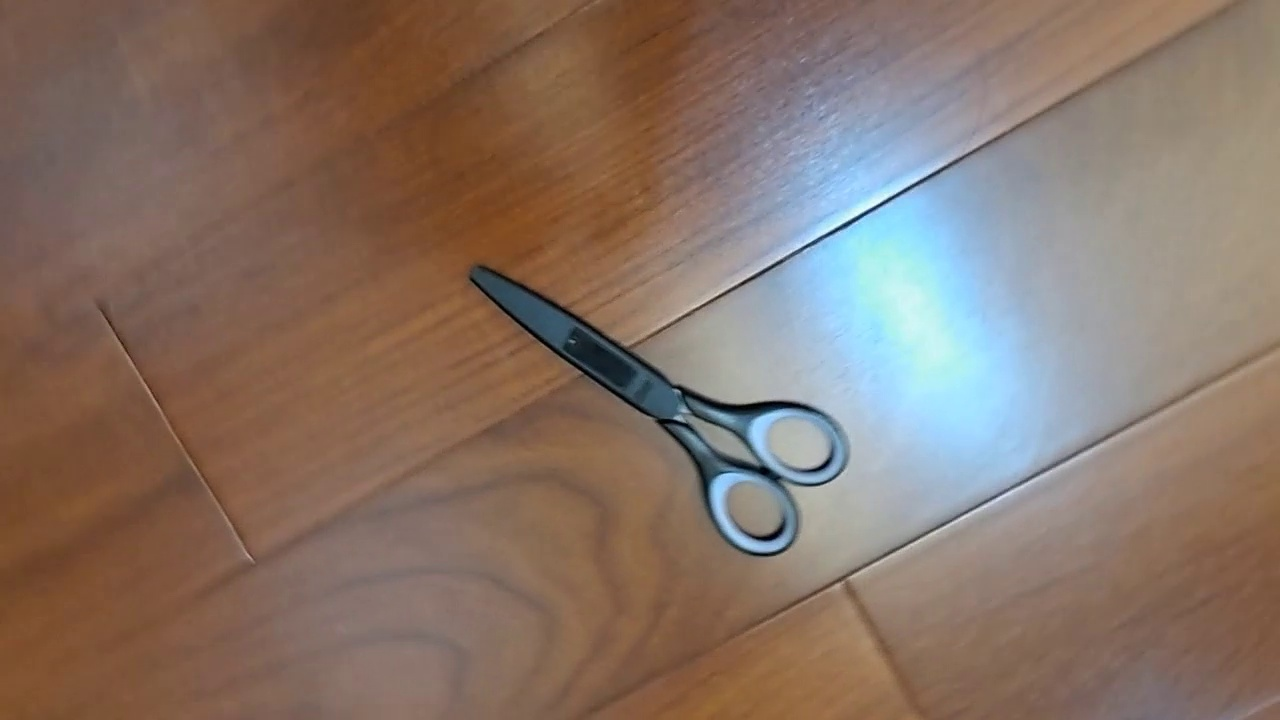scissors: (467, 263, 850, 557)
